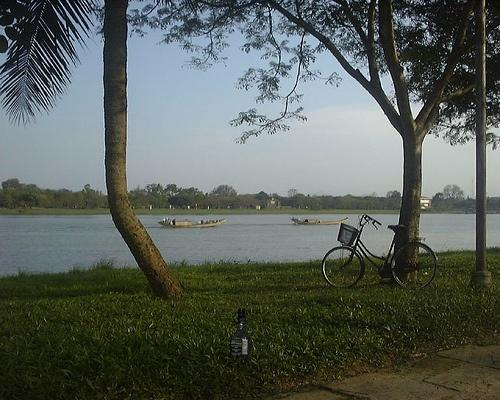tampered: (231, 309, 251, 360)
